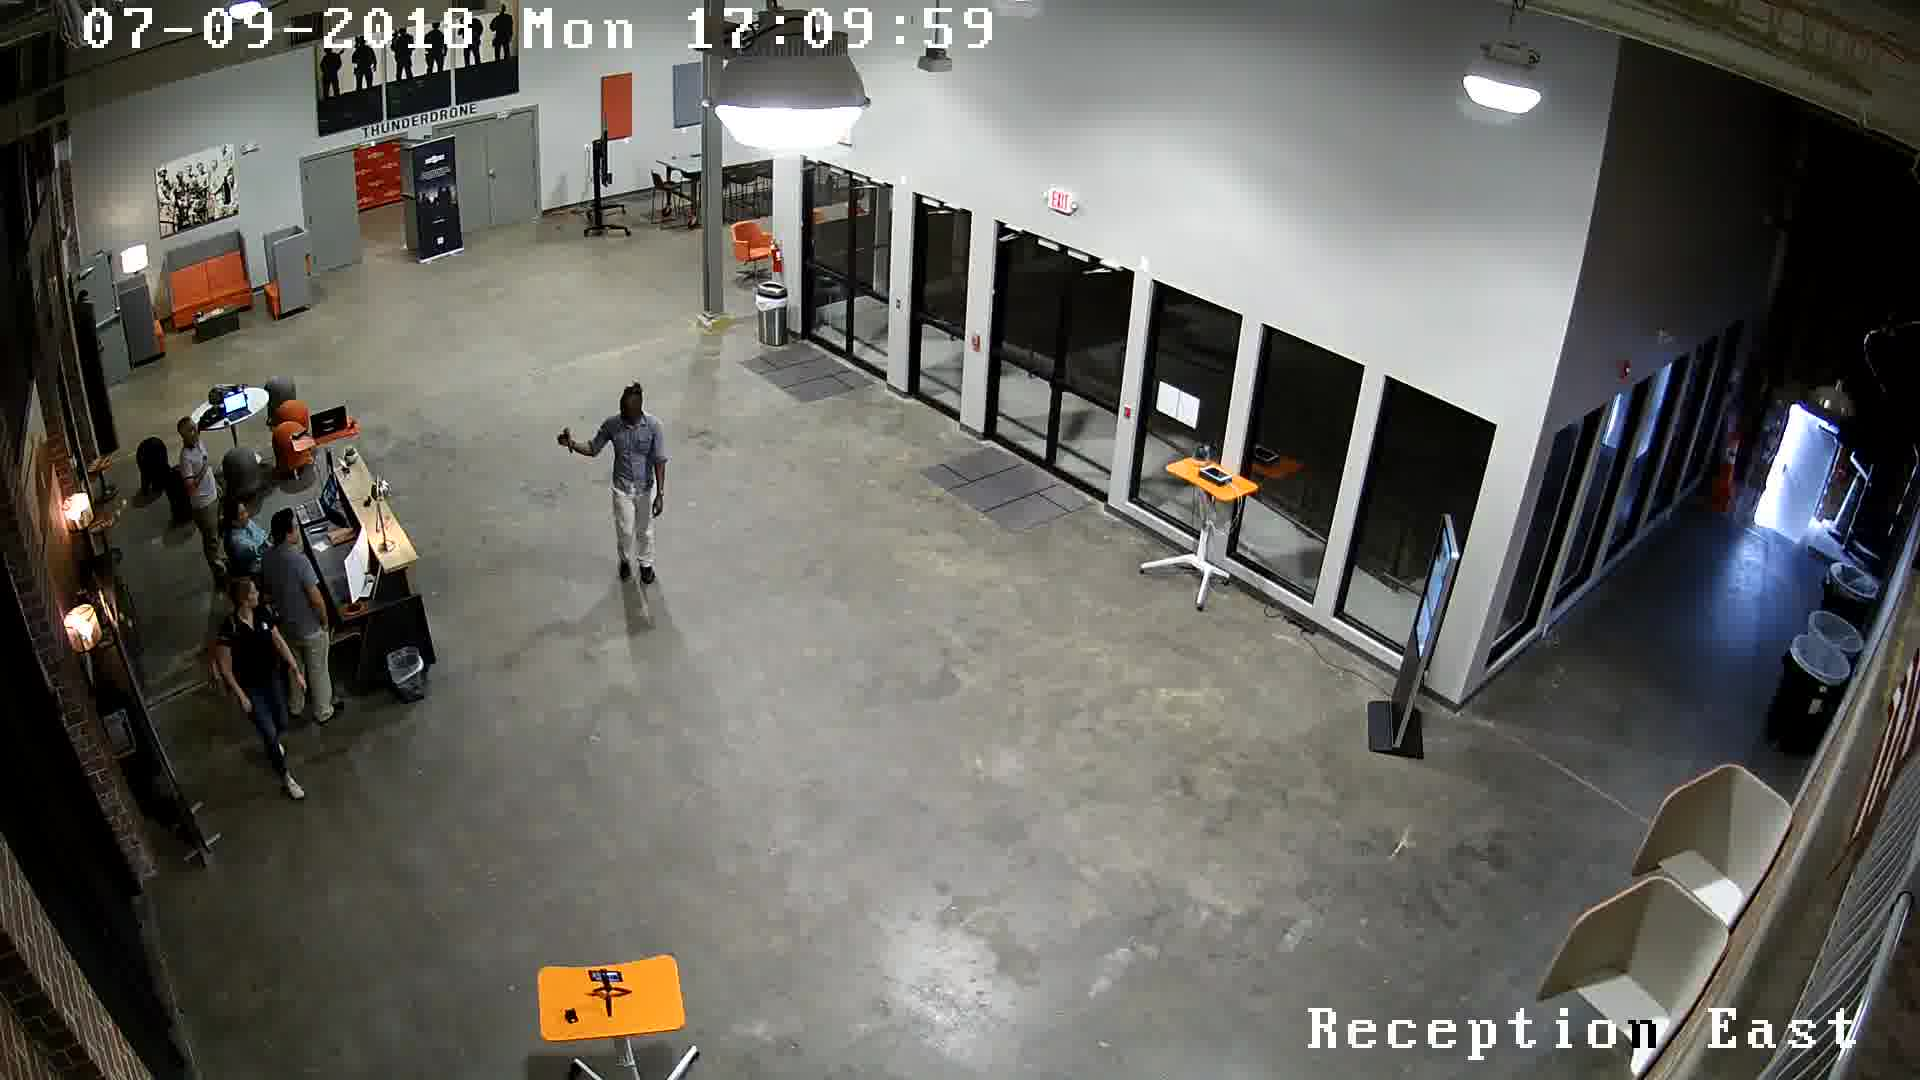pistol: (550, 427, 588, 464)
